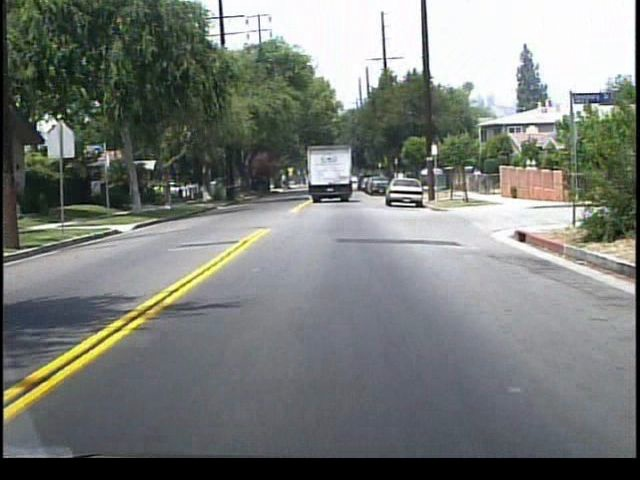person: (471, 166, 483, 194)
